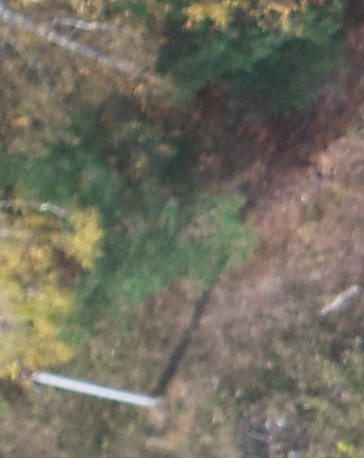opora: (15, 348, 186, 412)
